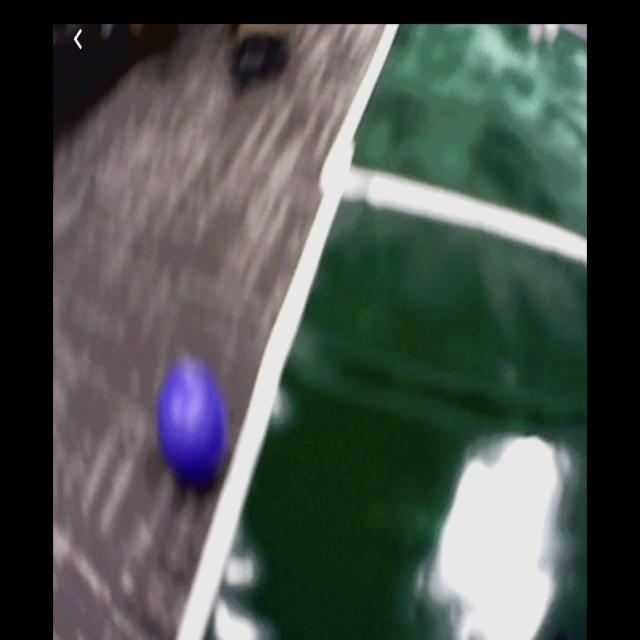ball: (160, 371, 224, 474)
